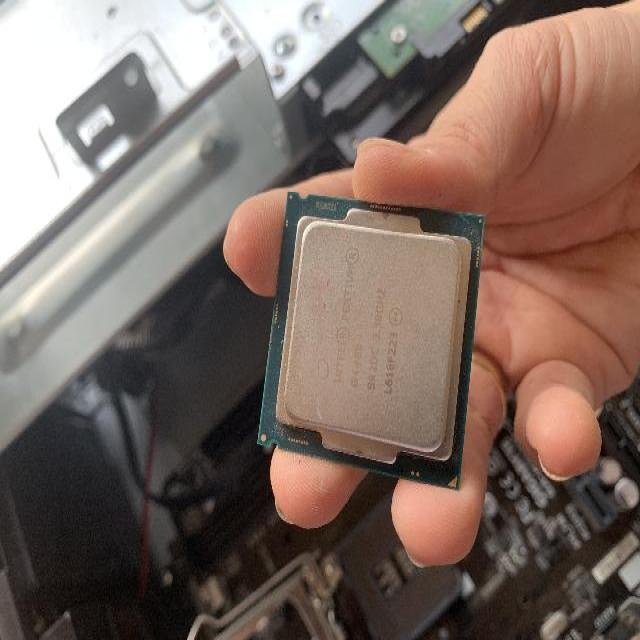CPU: (260, 189, 486, 491)
